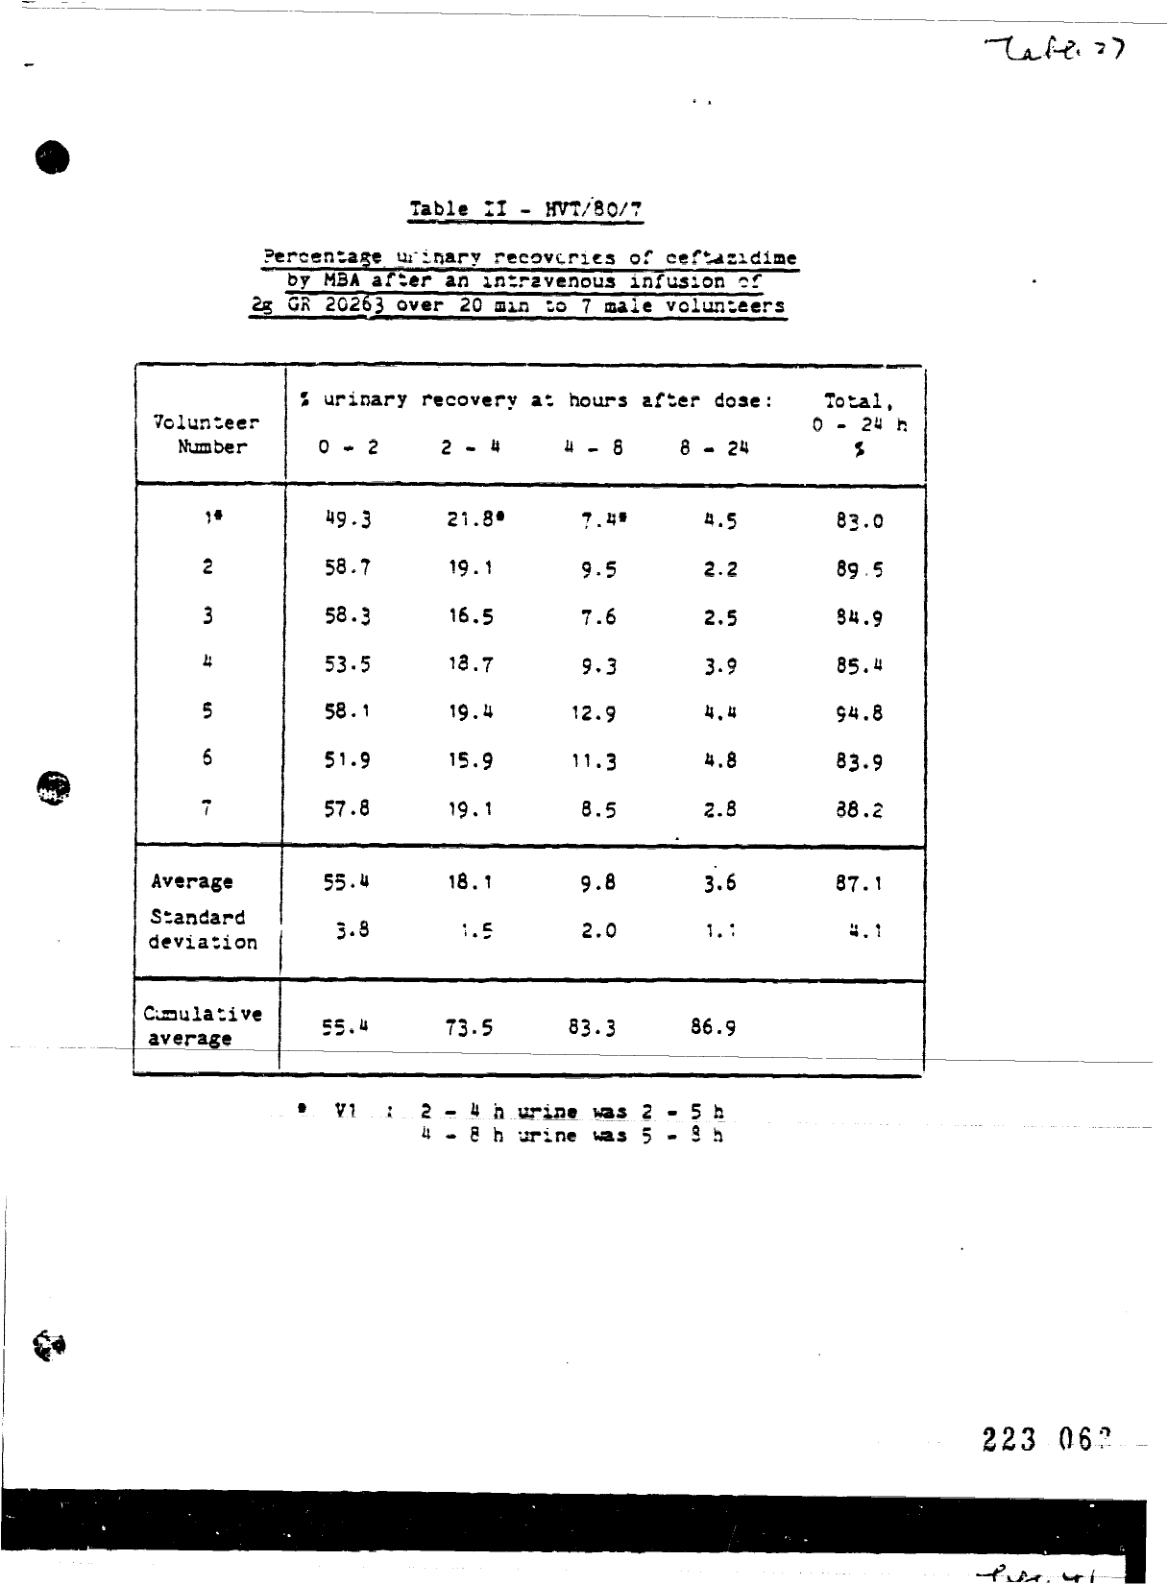partial_lined_merged_cells: (130, 358, 931, 1080)
